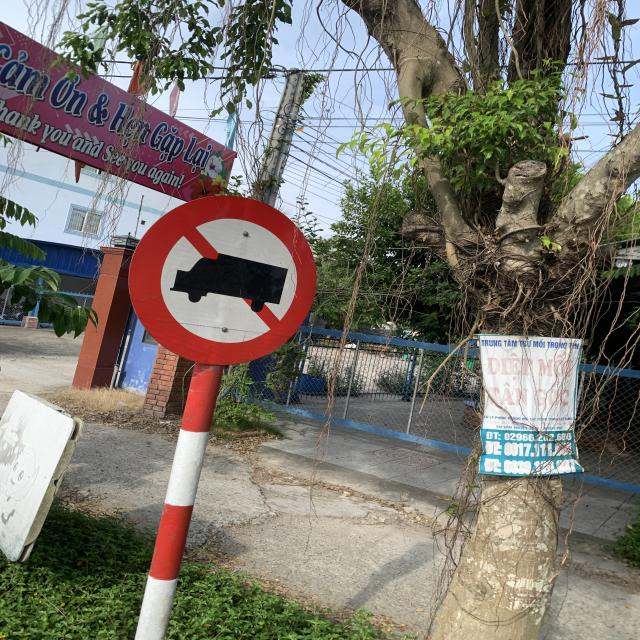Cam_Xe_Tai: (129, 192, 319, 364)
